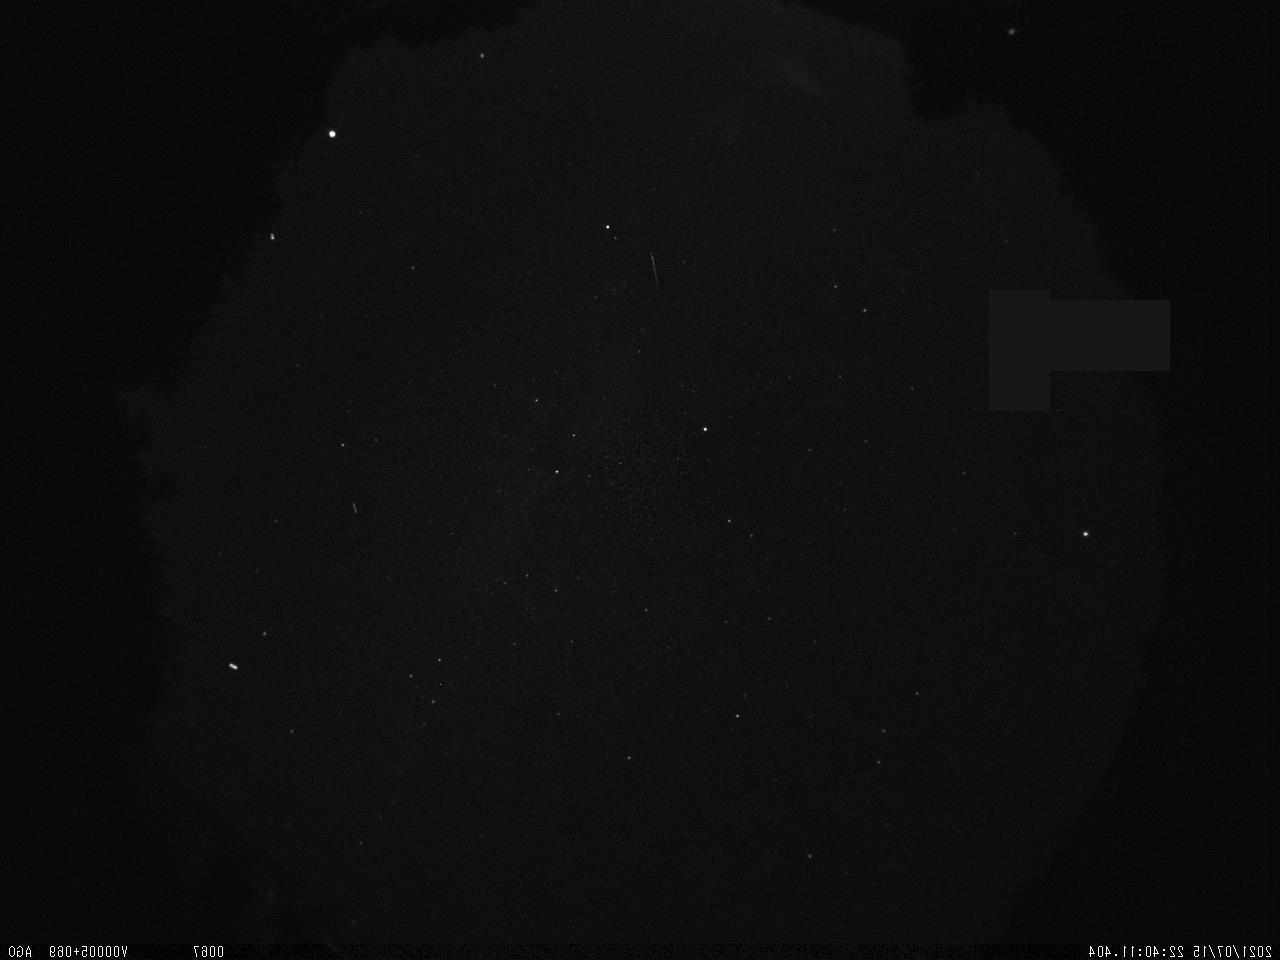meteor: (642, 247, 668, 292)
